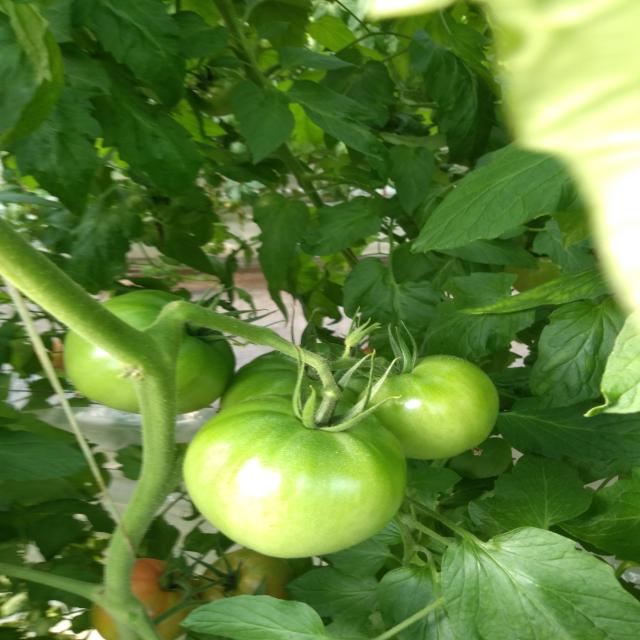yesil: (88, 231, 499, 531)
